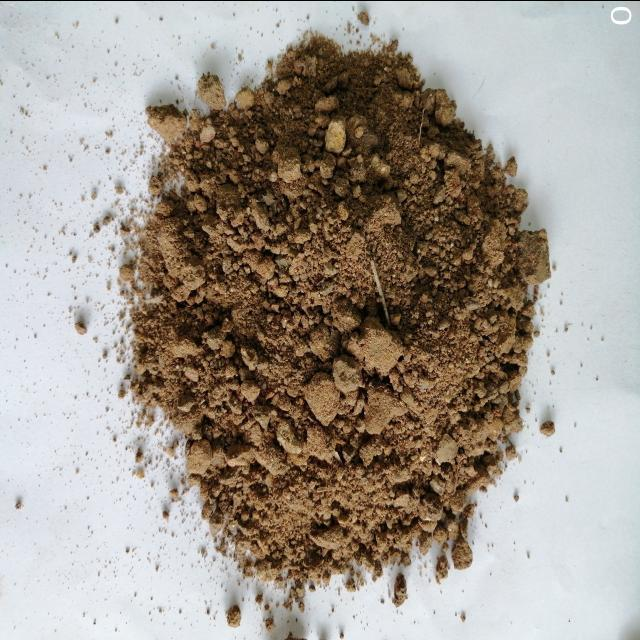soil: (226, 181, 490, 474)
